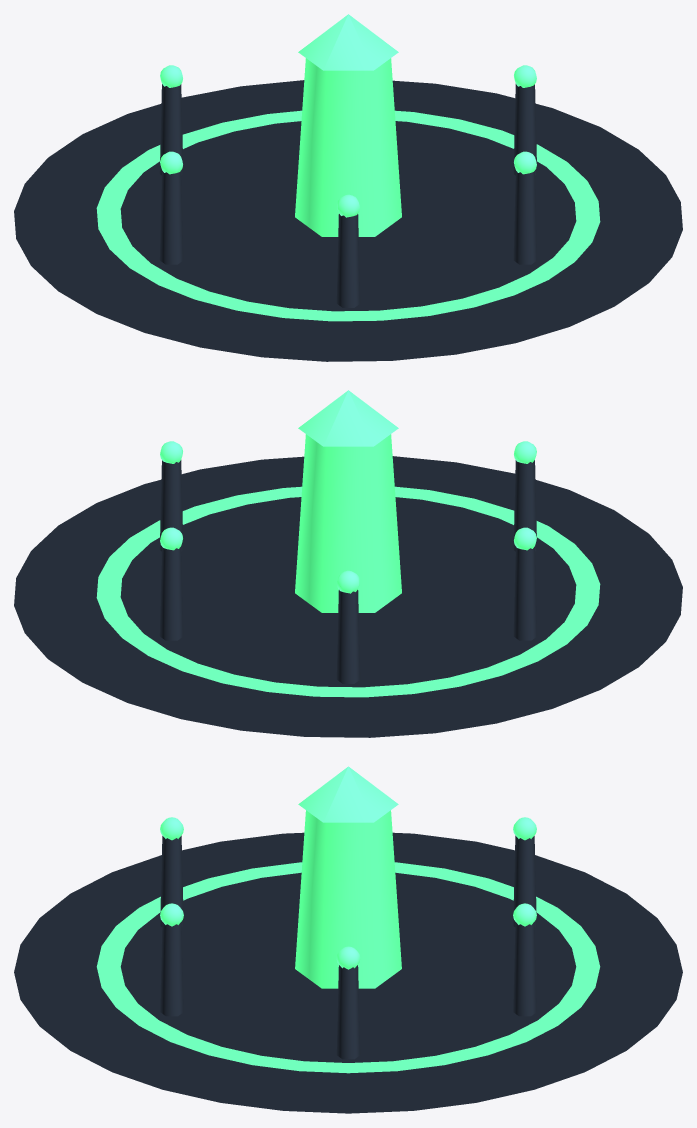
The model's file is district_square.glb.
The picture shows the model from 3 angles, top to bottom: view 1: azimuth 30°, elevation 25°; view 2: azimuth 150°, elevation 25°; view 3: azimuth 270°, elevation 25°; orthographic projection.
Visible parts, largest first — view 1: district_square; view 2: district_square; view 3: district_square.
Boxes of the visible parts, left/top/right/bottom form: district_square: left=14, top=14, right=682, bottom=361; district_square: left=14, top=390, right=682, bottom=737; district_square: left=14, top=766, right=682, bottom=1113.
Bounding box in the file's own units: 5.58 × 1.93 × 5.58.
